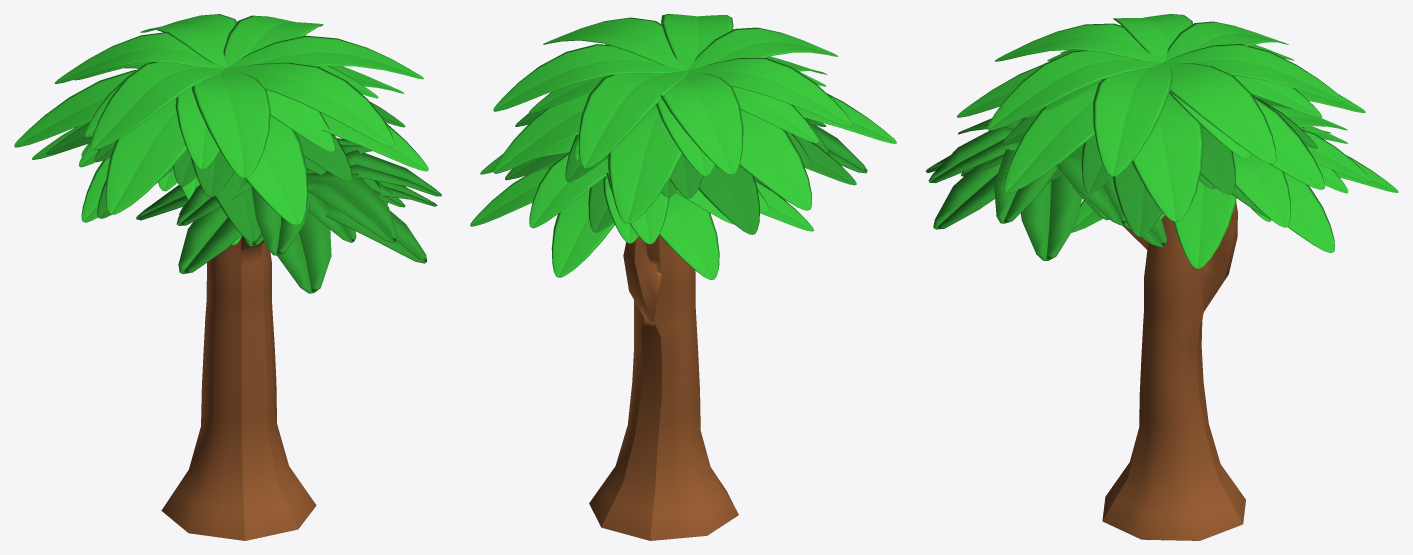
File: Tree.fbx
3 renders of one model, left to right at view 1: azimuth 30°, elevation 25°; view 2: azimuth 150°, elevation 25°; view 3: azimuth 270°, elevation 25°, orthographic. The views are drawn at different scales.
Parts seen in each view (by area): view 1: TreeFeet01; view 2: TreeFeet01; view 3: TreeFeet01.
Part boxes in pixels (x1,y1,x2,y2): TreeFeet01: (14,14,441,540); TreeFeet01: (470,14,896,540); TreeFeet01: (925,14,1398,540).
Size of the model in its own units: 2623 by 3276 by 3117.
